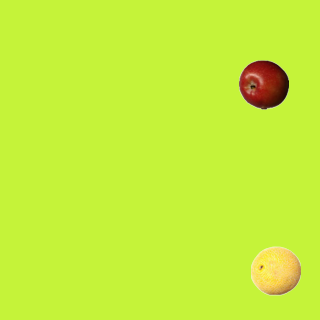Apple Braeburn: (238, 59, 288, 109)
Cantaloupe 1: (250, 245, 300, 295)
